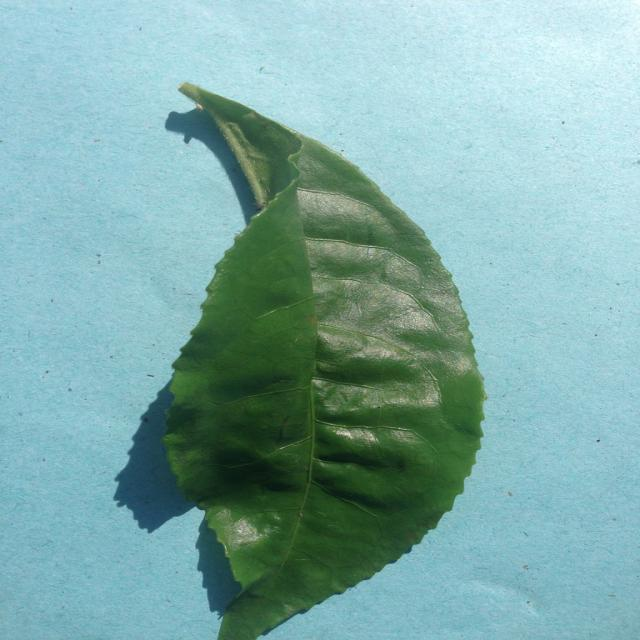Healthy: (118, 57, 508, 640)
